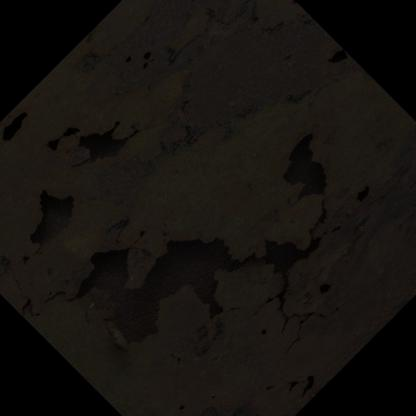burst: (90, 227, 344, 328), (241, 128, 339, 218), (59, 120, 149, 179), (26, 186, 79, 241)
